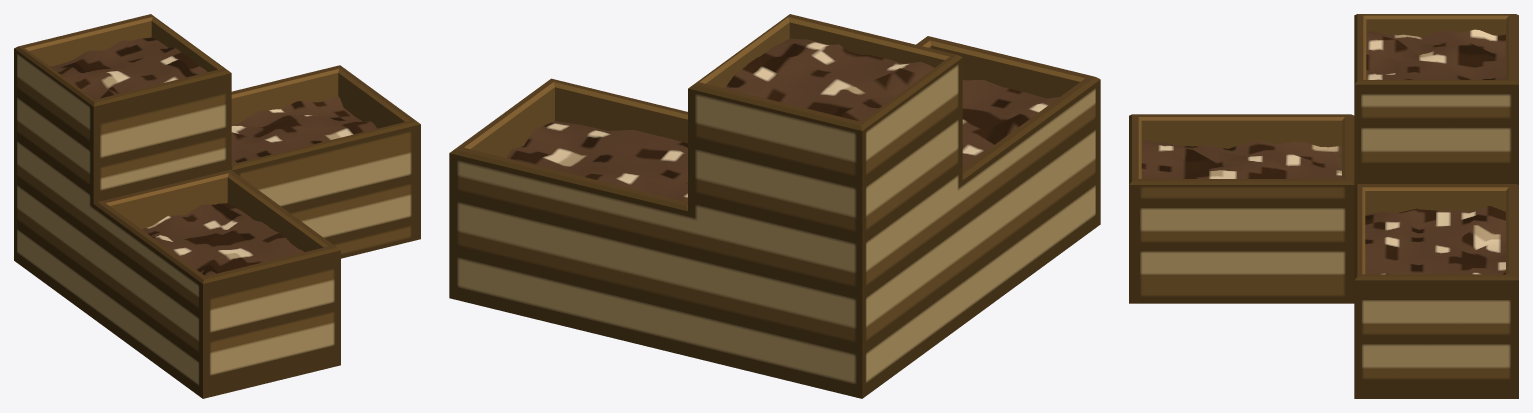
The model's file is Pot1.fbx.
The picture shows the model from 3 angles, left to right: view 1: azimuth 30°, elevation 25°; view 2: azimuth 150°, elevation 25°; view 3: azimuth 270°, elevation 25°; orthographic projection. The views are drawn at different scales.
Parts seen in each view (by area): view 1: POt1; view 2: POt1; view 3: POt1.
Part boxes in pixels (bbox=[...]): POt1: bbox=[14, 14, 420, 398]; POt1: bbox=[449, 14, 1100, 398]; POt1: bbox=[1129, 14, 1518, 398].
Bounding box in the file's own units: 38.72 × 24.29 × 38.72.
2 materials, 2 textured.
